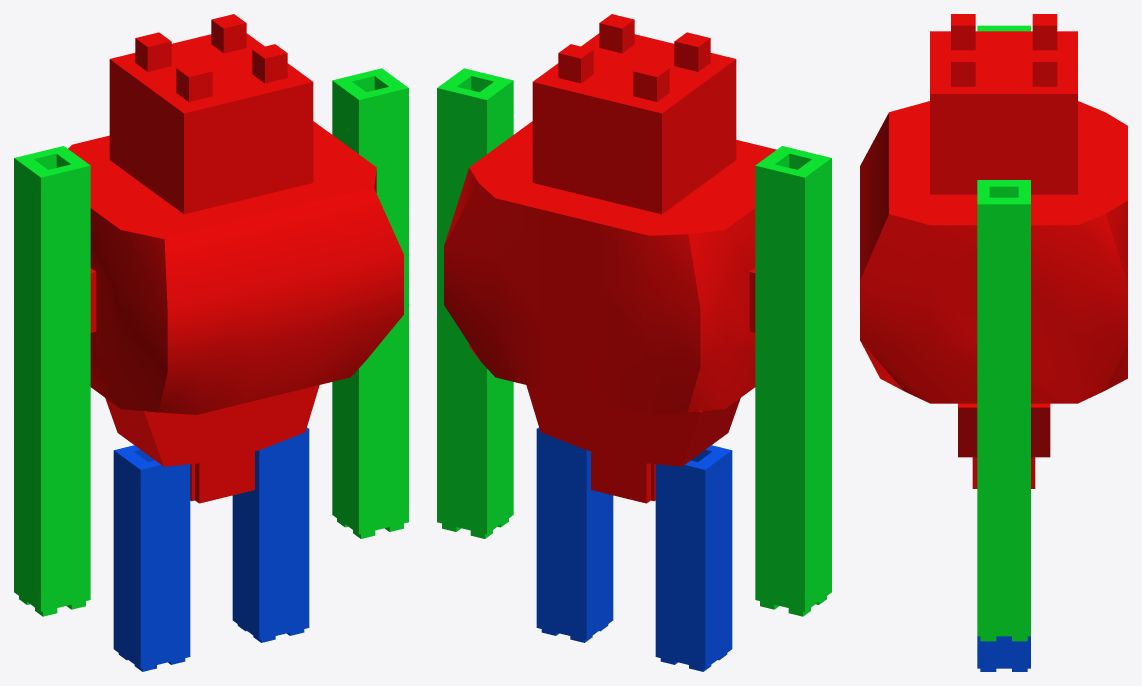
File: unit_golem.fbx
3 views of the same model, side by side, from view 1: azimuth 30°, elevation 25°; view 2: azimuth 150°, elevation 25°; view 3: azimuth 270°, elevation 25° (orthographic).
Parts seen in each view (by area): view 1: Box001, Box006, Box008, Object001, Object002; view 2: Box001, Box006, Box008, Object001, Object002; view 3: Box001, Box008, Object002.
Part boxes in pixels (x1,y1,x2,y2): Box001: (68, 14, 403, 503); Box006: (14, 146, 90, 616); Box008: (332, 68, 408, 538); Object001: (113, 445, 190, 671); Object002: (232, 427, 309, 642); Box001: (444, 14, 776, 503); Box006: (755, 146, 831, 616); Box008: (437, 68, 513, 538); Object001: (655, 445, 732, 671); Object002: (536, 427, 613, 642); Box001: (860, 14, 1127, 488); Box008: (977, 180, 1030, 641); Object002: (977, 636, 1030, 671).
Bounding box in the file's own units: 54.88 × 34.81 × 85.25.
